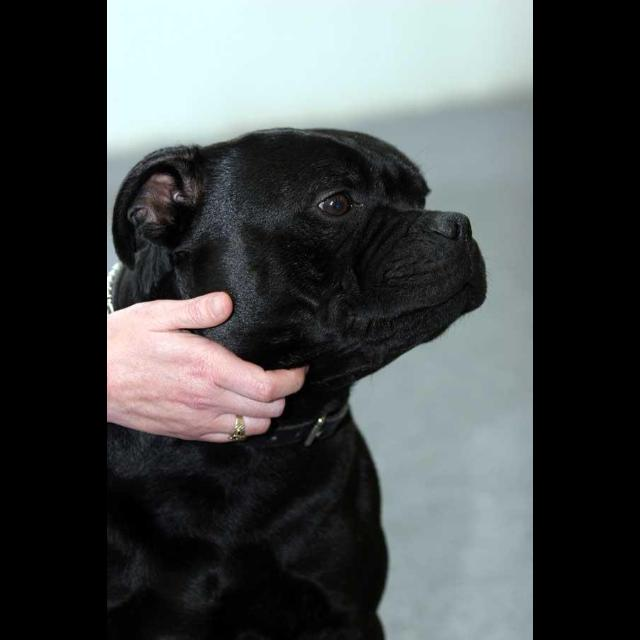staffford: (109, 127, 489, 640)
